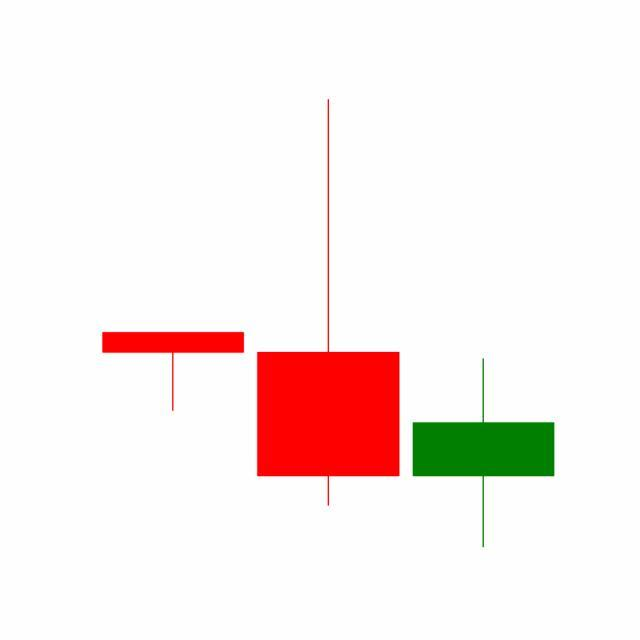Spinning Top: (406, 356, 562, 550)
